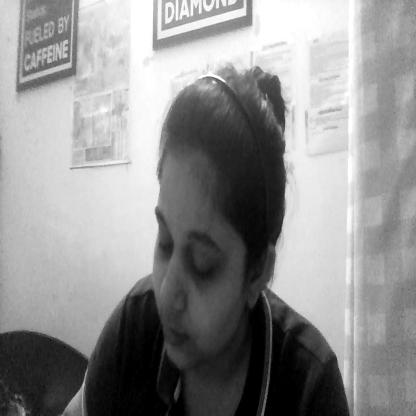Distracted: (146, 58, 287, 376)
